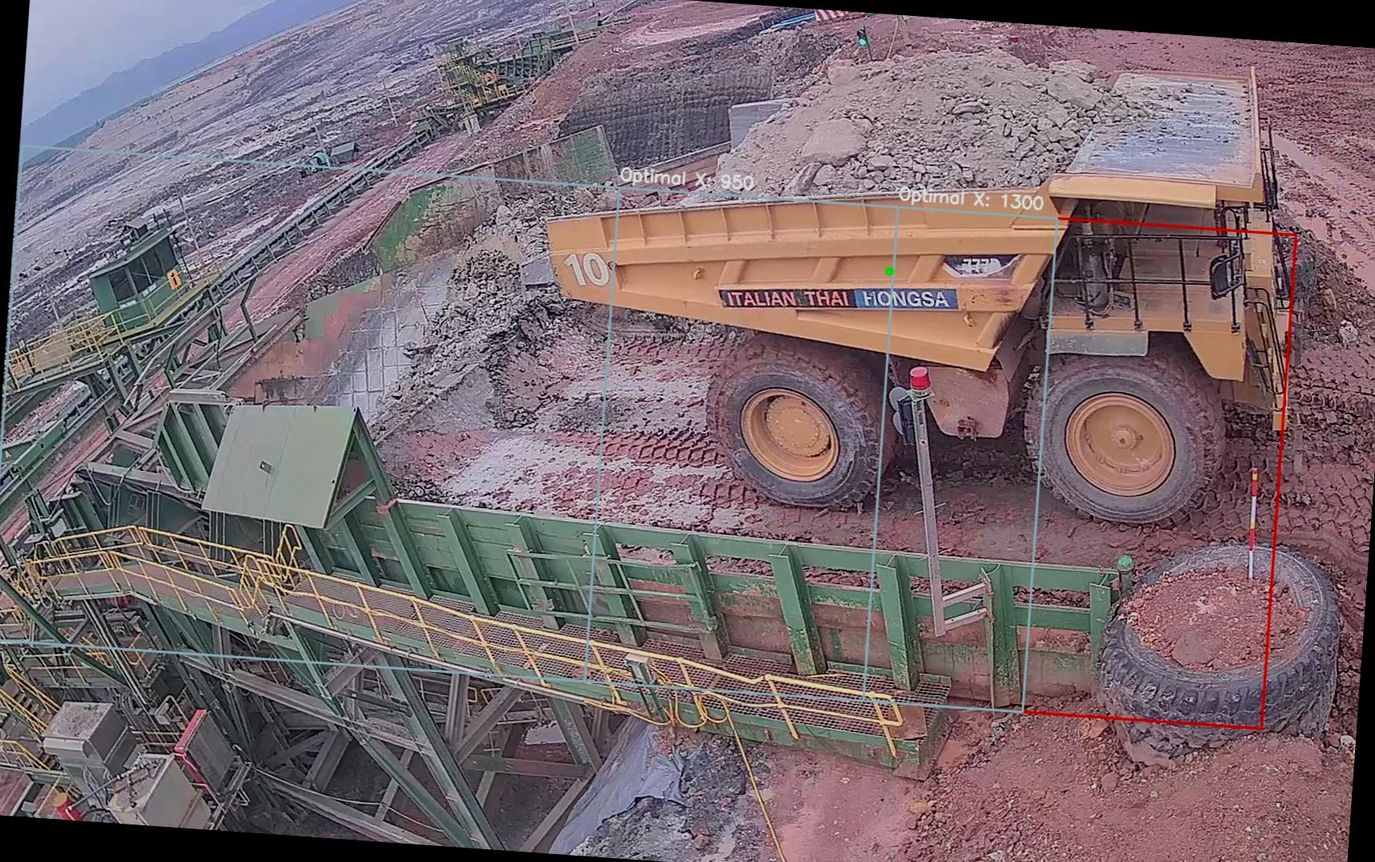company: (701, 269, 978, 327)
full_load: (721, 33, 1119, 221)
mining_truck: (522, 0, 1326, 532)
tail_number: (553, 243, 618, 298)
truck_size: (937, 238, 1014, 281)
